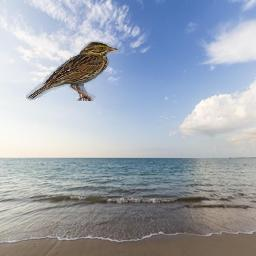Sparrow: (26, 41, 118, 102)
